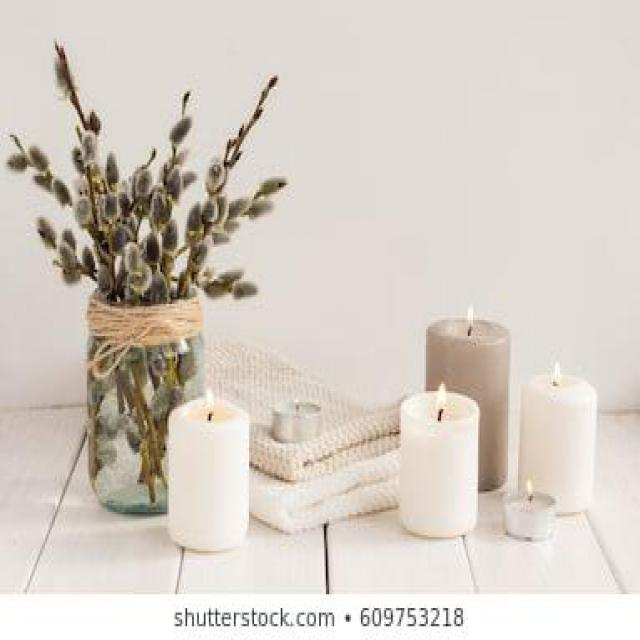Fire: (435, 382, 447, 412), (204, 385, 214, 410), (552, 361, 562, 382), (466, 303, 474, 326), (525, 478, 534, 496)
